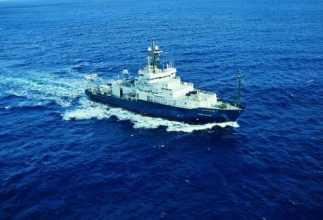warship: (85, 37, 245, 132)
